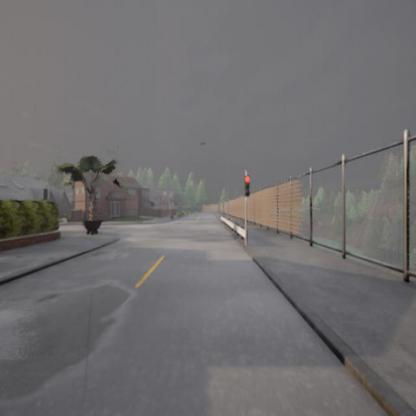traffic_light_red: (243, 176, 250, 196)
